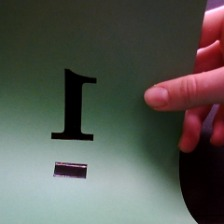green1: (44, 65, 104, 189)
